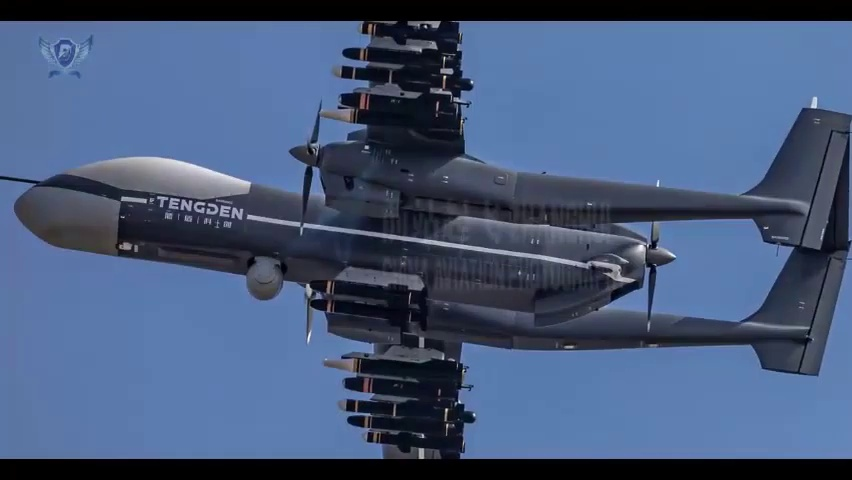military drone: (0, 19, 852, 458)
